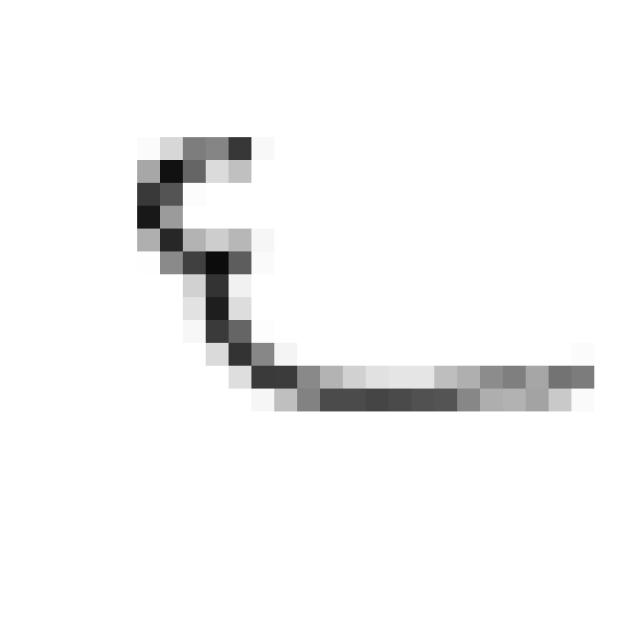4 -four-: (121, 124, 608, 426)
